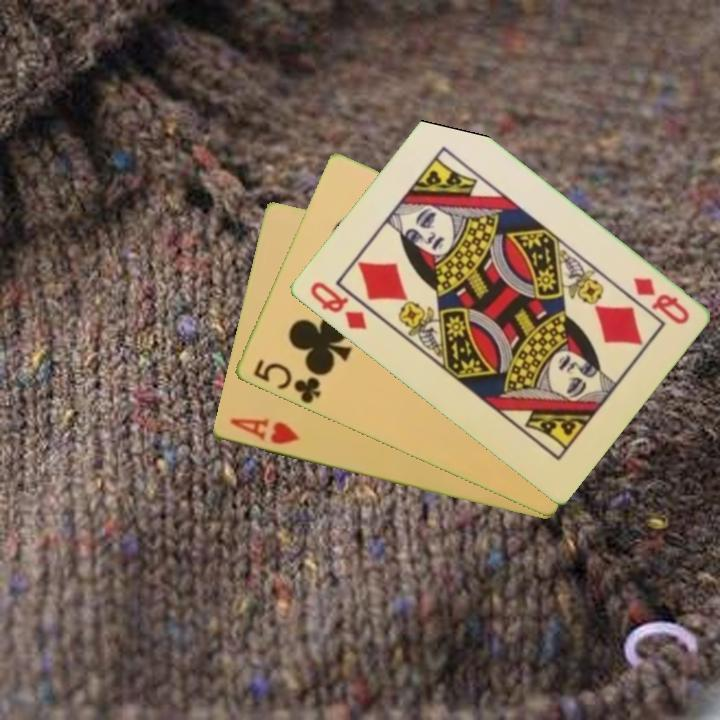5c: (249, 355, 323, 407)
Ah: (225, 415, 302, 448)
Qd: (305, 277, 370, 334), (628, 273, 692, 328)
